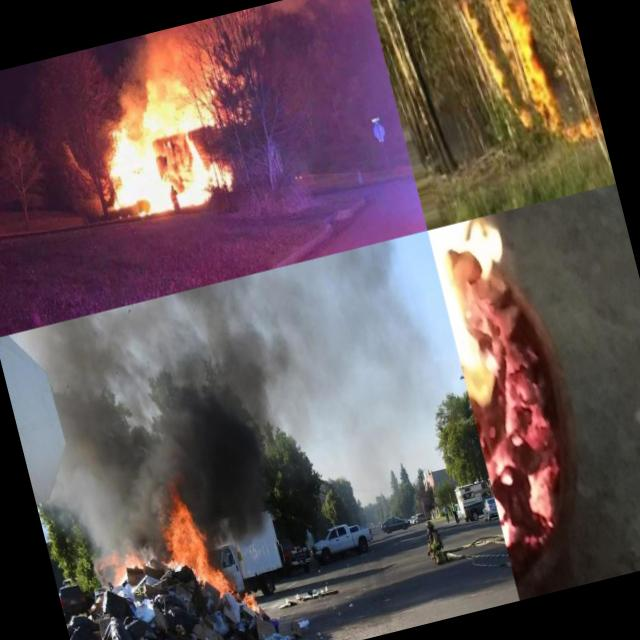fire: (427, 206, 606, 568), (445, 0, 603, 162), (86, 76, 230, 220), (160, 499, 231, 606), (108, 542, 158, 619), (240, 586, 266, 622)
smoke: (0, 282, 274, 556), (220, 236, 442, 438), (186, 482, 287, 568), (106, 24, 198, 96)
